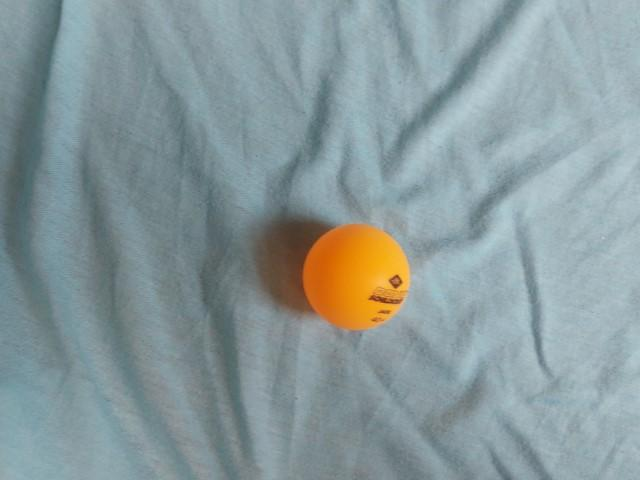oball: (296, 221, 419, 334)
